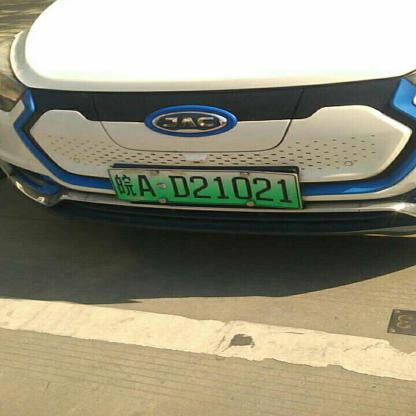lp: (108, 170, 298, 208)
